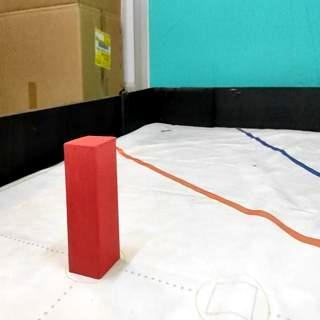redbox: (63, 135, 123, 279)
